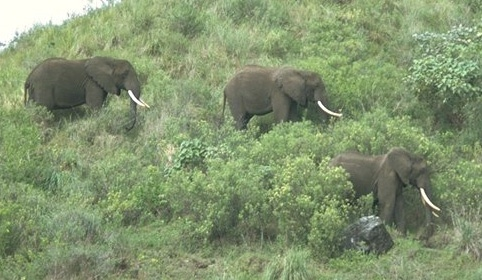elephant: (85, 93, 215, 167), (280, 99, 403, 169), (387, 193, 482, 280)
